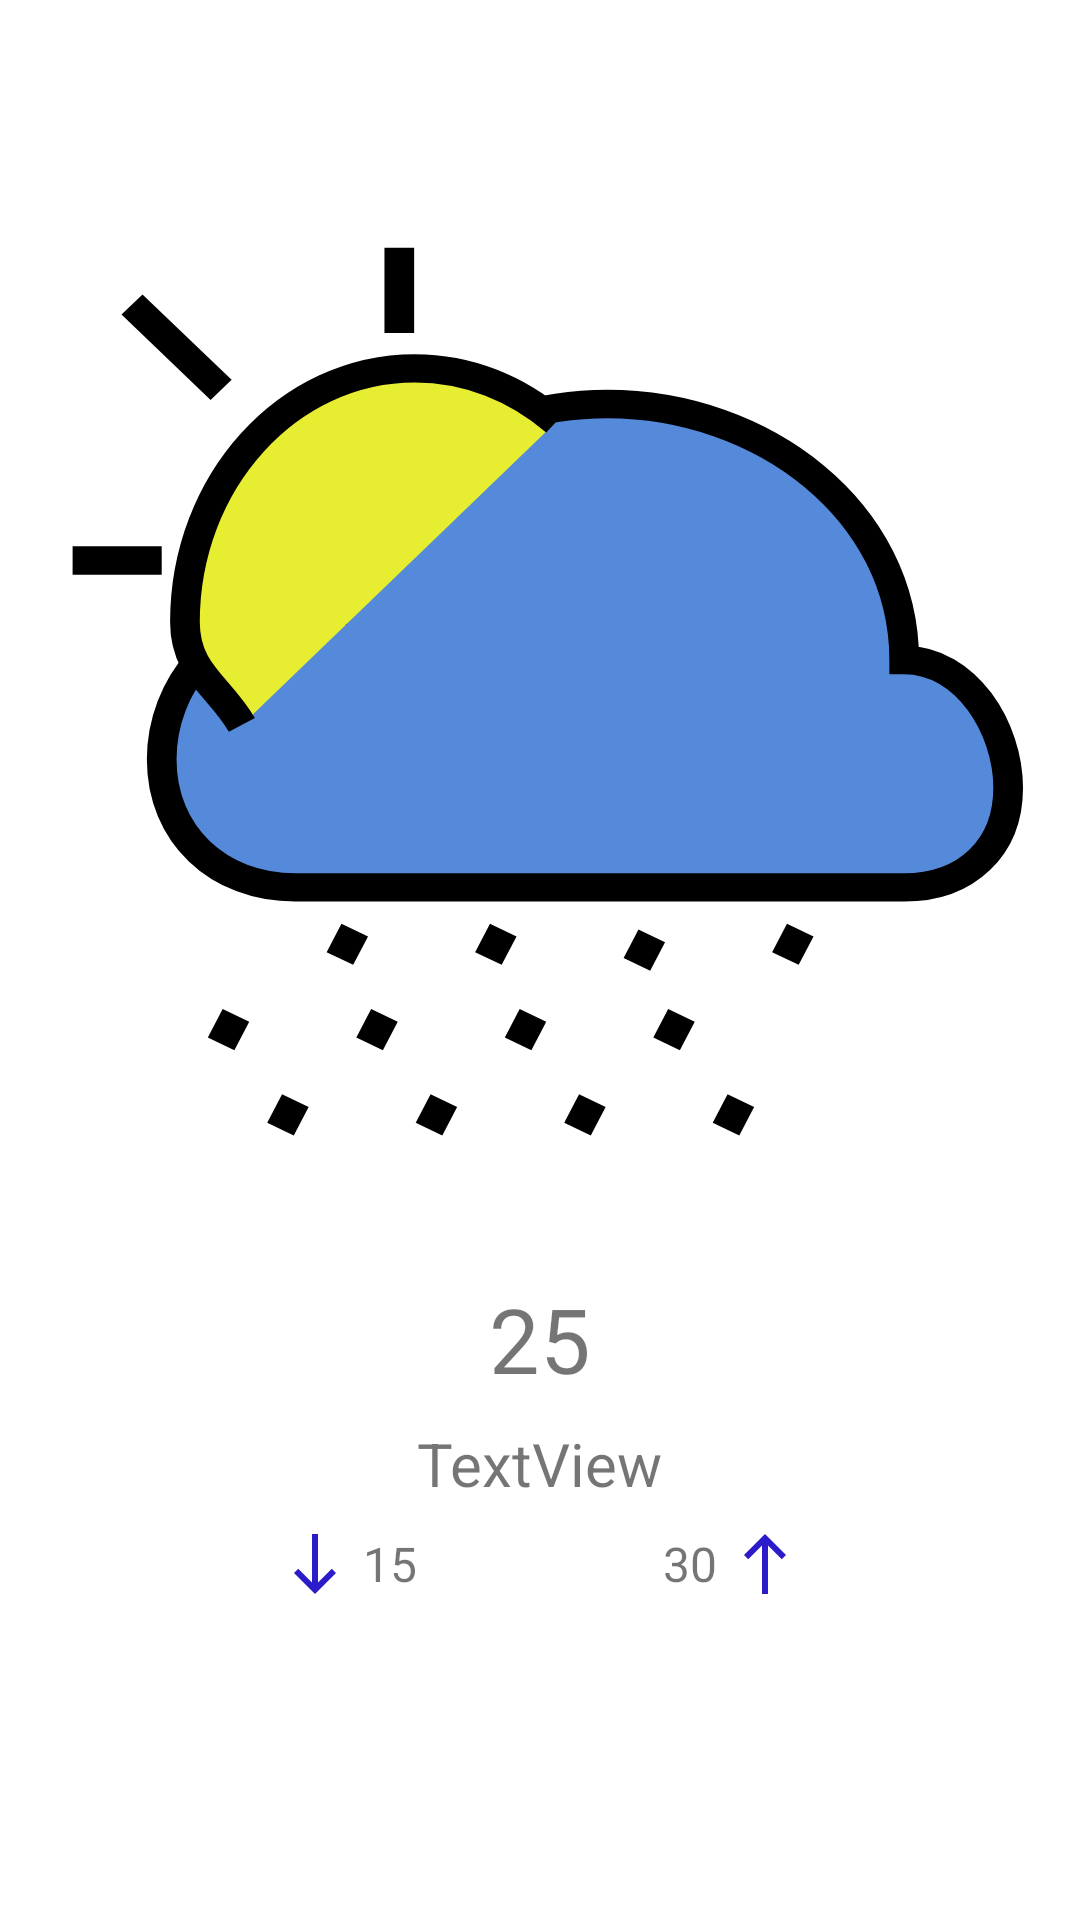

Locate icon controls on the screen. Image size 1080px x 1920px, boxes as (x1, y1, x2, y2).
down: (294, 1534, 336, 1594)
high: (744, 1534, 786, 1594)
